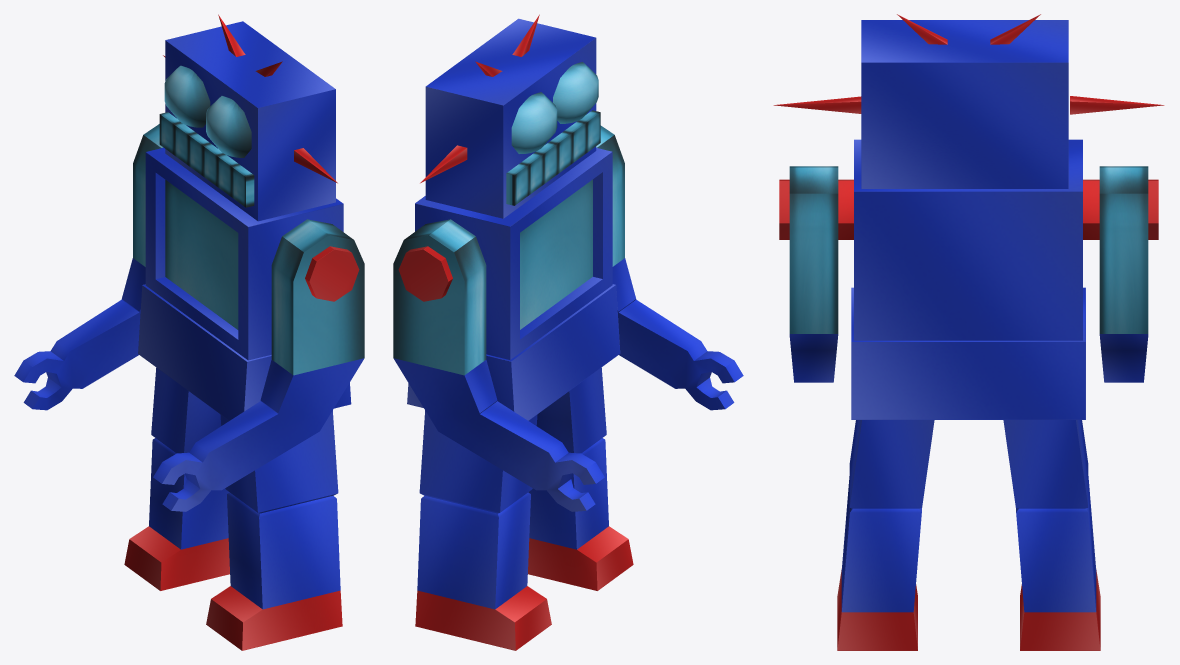
File: robot.FBX
3 views of the same model, side by side, from view 1: azimuth 30°, elevation 25°; view 2: azimuth 150°, elevation 25°; view 3: azimuth 270°, elevation 25° (orthographic). The views are drawn at different scales.
Parts seen in each view (by area): view 1: robot; view 2: robot; view 3: robot.
Part boxes in pixels (left/top/right/bottom): robot: left=14, top=14, right=364, bottom=650; robot: left=393, top=14, right=743, bottom=650; robot: left=773, top=14, right=1164, bottom=650.
Size of the model in its own units: 93.21 by 135 by 234.
Materials: 12 (12 with a texture image).
